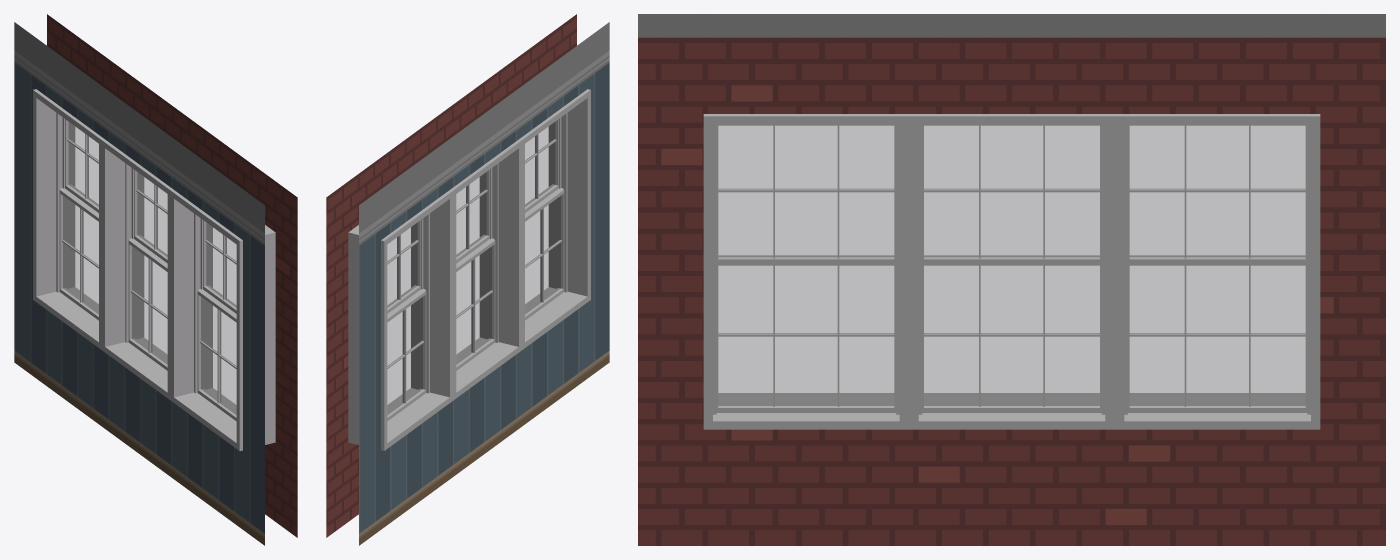
The model's file is SM_window_04.glb.
3 views of the same model, side by side, from view 1: azimuth 30°, elevation 25°; view 2: azimuth 150°, elevation 25°; view 3: azimuth 270°, elevation 25° (orthographic). The views are drawn at different scales.
Parts seen in each view (by area): view 1: SM_window_04; view 2: SM_window_04; view 3: SM_window_04.
Part boxes in pixels (x1=…): SM_window_04: x1=14, y1=14, x2=297, y2=545; SM_window_04: x1=326, y1=14, x2=609, y2=545; SM_window_04: x1=638, y1=14, x2=1385, y2=545.
Bounding box in the file's own units: 0.36 × 3 × 4.
4 materials, 3 textured.
